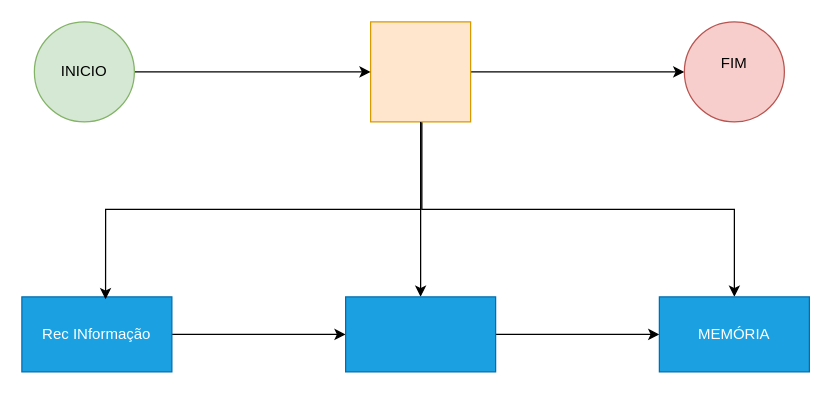
Image size: 831x394. Some labels were removed from this diagram. The box of each missing label's shape, as (x1, y1, x2, y2) in pixels:
LLM -AGENTE SDK: (369, 21, 471, 122)
TOOLS: (344, 296, 496, 372)
